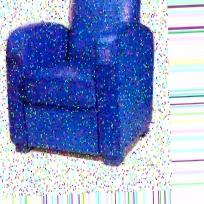chair: (5, 1, 155, 167)
